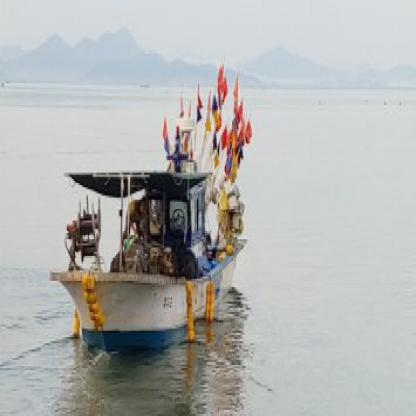fish-b: (40, 58, 259, 370)
